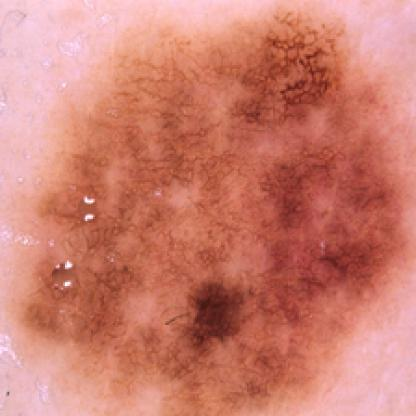benign: (26, 32, 383, 403)
